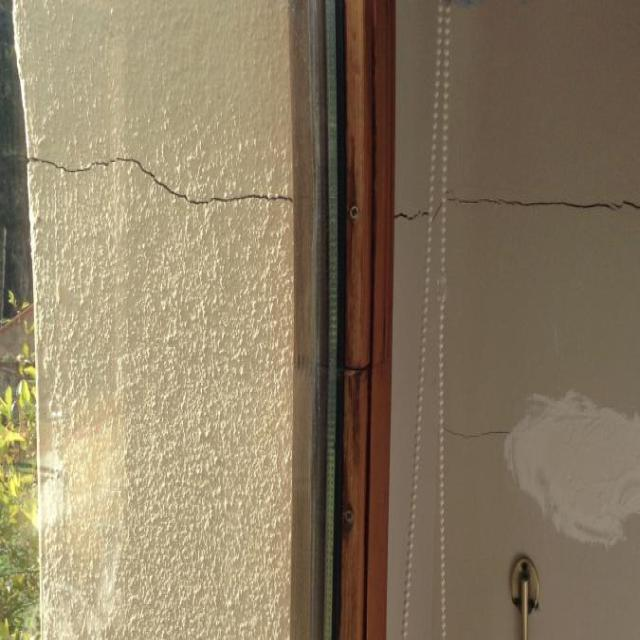crack: (25, 153, 292, 208), (451, 195, 617, 211), (448, 424, 509, 441), (396, 209, 427, 220)
